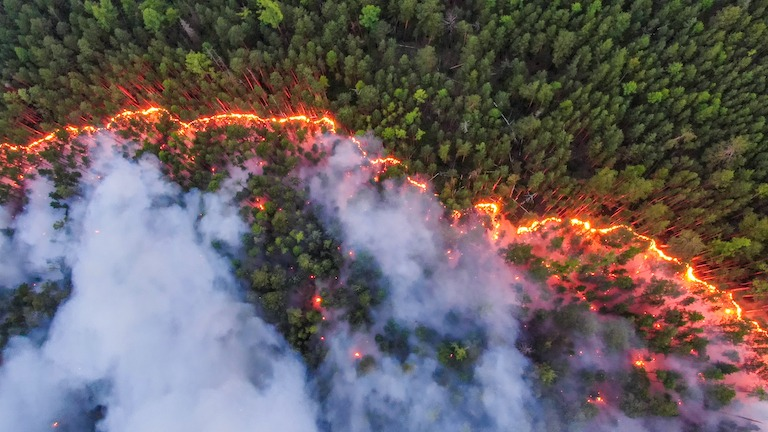forest_fire: (515, 217, 681, 263), (64, 107, 335, 134), (0, 132, 57, 153), (684, 264, 722, 293), (473, 202, 500, 239), (724, 294, 741, 318), (406, 177, 425, 190), (372, 157, 400, 165), (311, 294, 323, 308)
